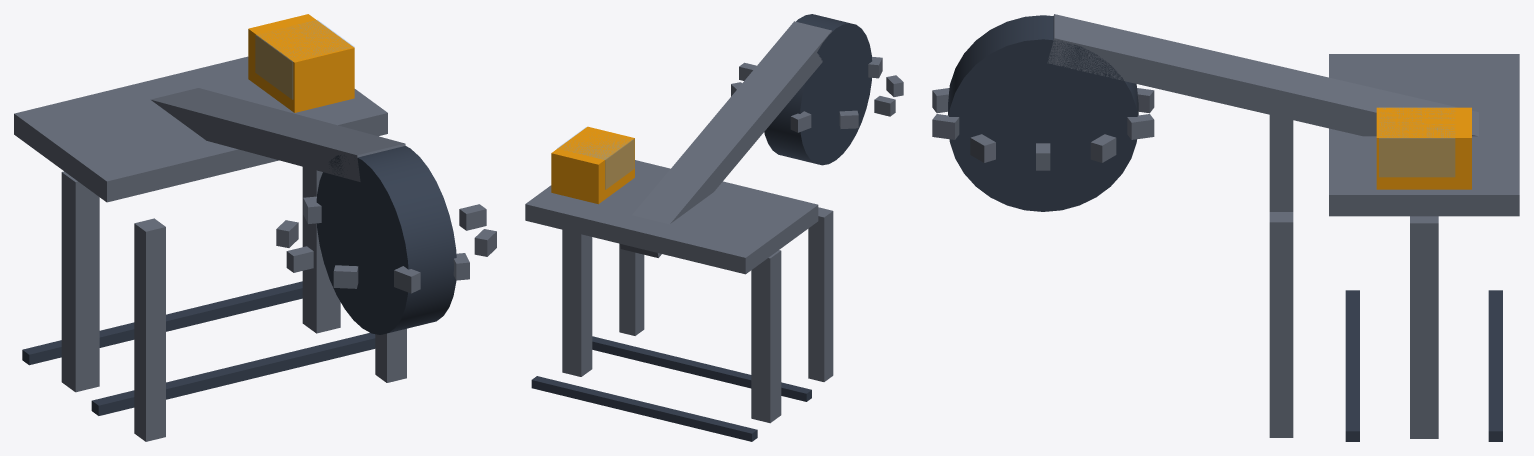
The model's file is reclaimer.glb.
3 views of the same model, side by side, from view 1: azimuth 30°, elevation 25°; view 2: azimuth 150°, elevation 25°; view 3: azimuth 270°, elevation 25° (orthographic). The views are drawn at different scales.
Size of the model in its own units: 7 by 8.03 by 12.33.
